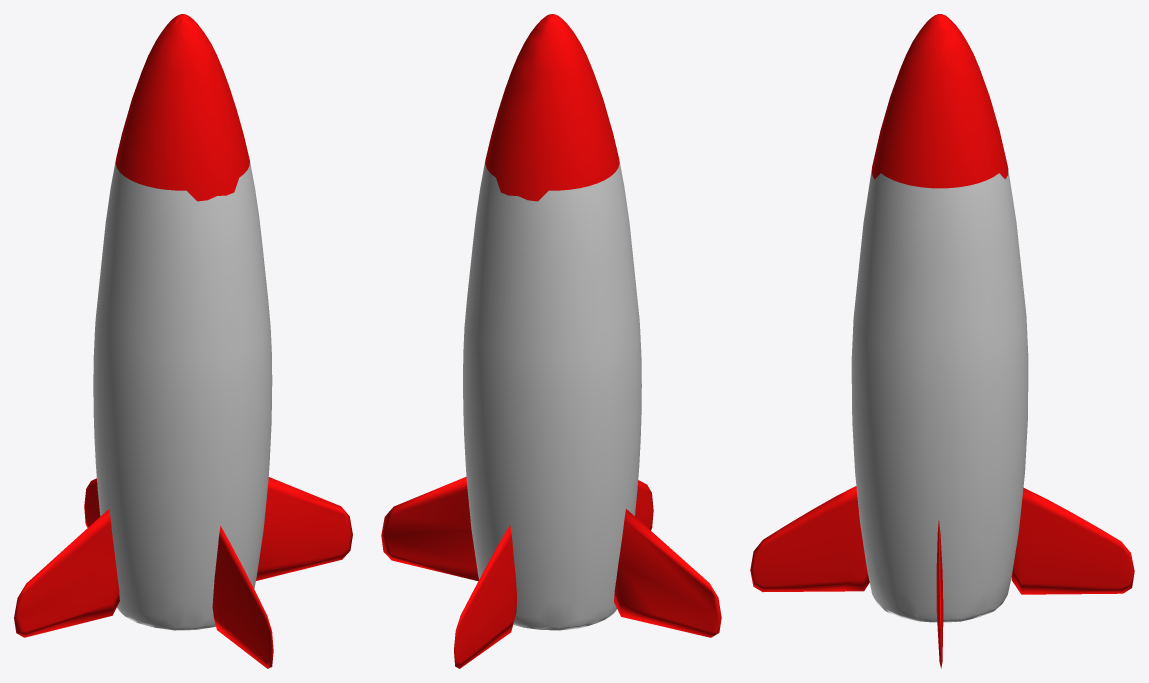
The model's file is rocket_LowPoly.fbx.
The picture shows the model from 3 angles, left to right: view 1: azimuth 30°, elevation 25°; view 2: azimuth 150°, elevation 25°; view 3: azimuth 270°, elevation 25°; orthographic projection.
Visible parts, largest first — view 1: rocket; view 2: rocket; view 3: rocket.
Part boxes in pixels (x1,y1,x2,y2): rocket: [14, 14, 352, 668]; rocket: [381, 14, 721, 668]; rocket: [750, 14, 1134, 668].
Bounding box in the file's own units: 11.97 × 19.83 × 11.88.
